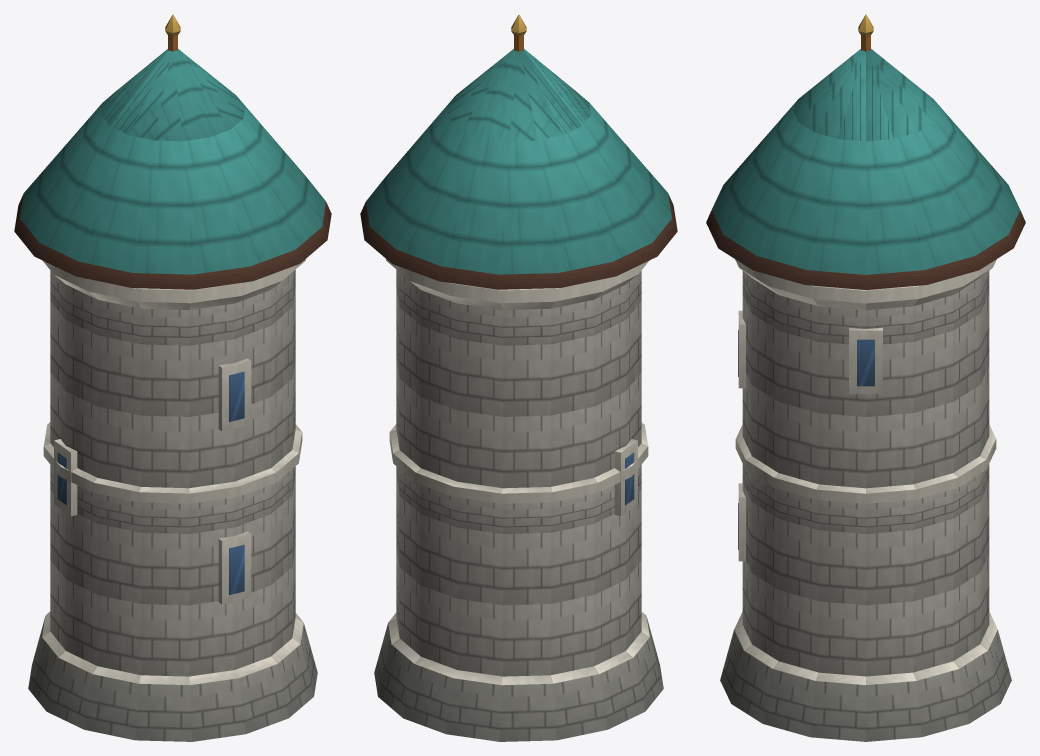
File: wall_tower_round_01.glb
3 renders of one model, left to right at view 1: azimuth 30°, elevation 25°; view 2: azimuth 150°, elevation 25°; view 3: azimuth 270°, elevation 25°, orthographic.
Visible parts, largest first — view 1: wall_tower_round_01; view 2: wall_tower_round_01; view 3: wall_tower_round_01.
Boxes of the visible parts, x1,y1,x2,y2 form: wall_tower_round_01: [14, 14, 331, 741]; wall_tower_round_01: [360, 14, 677, 741]; wall_tower_round_01: [706, 14, 1025, 741].
Bounding box in the file's own units: 5.7 × 13.1 × 5.7.
1 material, 1 textured.
